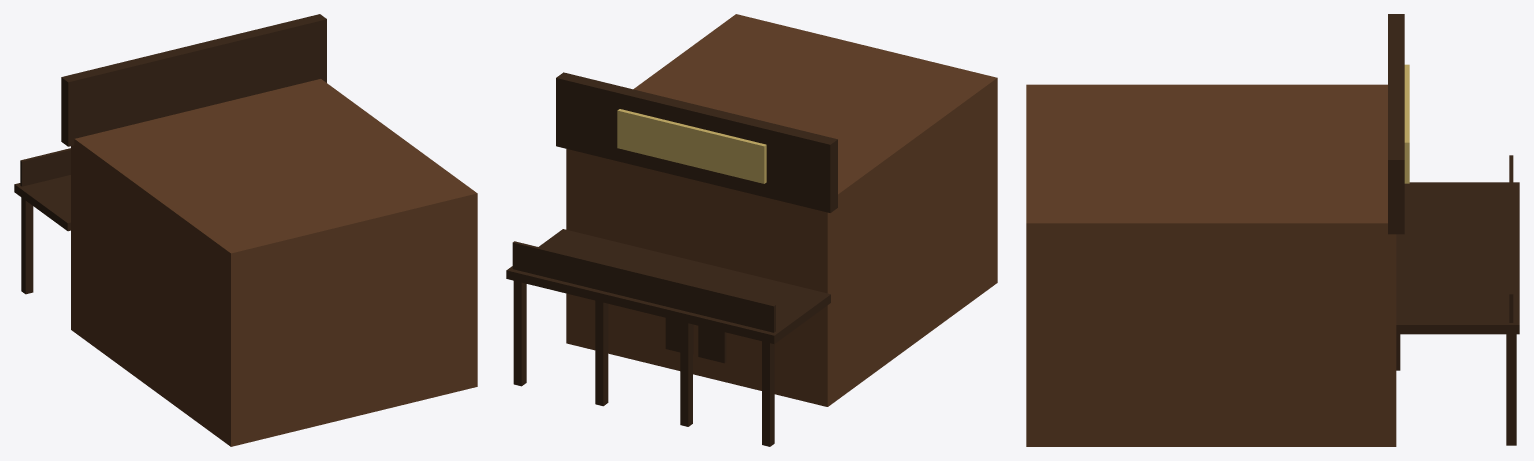
The model's file is saloon.obj.
The picture shows the model from 3 angles, left to right: view 1: azimuth 30°, elevation 25°; view 2: azimuth 150°, elevation 25°; view 3: azimuth 270°, elevation 25°; orthographic projection. The views are drawn at different scales.
Visible parts, largest first — view 1: Cube, Cube.001, Cube.003, Cube.008, Cube.004; view 2: Cube, Cube.001, Cube.003, Cube.008, Cube.002, Cube.006, Cube.007, Cube.005, Cube.004, Cube.009, Cube.010; view 3: Cube, Cube.003, Cube.001, Cube.007, Cube.008, Cube.002.
Part boxes in pixels (bbox=[...]): Cube: bbox=[71, 79, 477, 446]; Cube.001: bbox=[61, 14, 326, 146]; Cube.003: bbox=[14, 175, 70, 231]; Cube.008: bbox=[20, 148, 70, 186]; Cube.004: bbox=[21, 197, 33, 294]; Cube: bbox=[566, 14, 997, 406]; Cube.001: bbox=[556, 72, 837, 212]; Cube.003: bbox=[506, 229, 830, 344]; Cube.008: bbox=[512, 241, 775, 332]; Cube.002: bbox=[617, 109, 766, 183]; Cube.006: bbox=[595, 300, 608, 406]; Cube.007: bbox=[513, 281, 526, 386]; Cube.005: bbox=[680, 321, 692, 426]; Cube.004: bbox=[762, 341, 774, 446]; Cube.009: bbox=[698, 326, 726, 363]; Cube.010: bbox=[665, 318, 693, 354]; Cube: bbox=[1026, 84, 1396, 446]; Cube.003: bbox=[1396, 182, 1519, 334]; Cube.001: bbox=[1388, 14, 1404, 234]; Cube.007: bbox=[1506, 334, 1516, 445]; Cube.008: bbox=[1509, 155, 1513, 322]; Cube.002: bbox=[1404, 64, 1409, 183].
Bounding box in the file's own units: 8.4 × 7.8 × 12.
